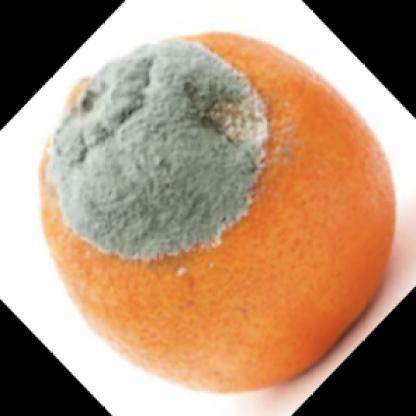rotten: (38, 29, 398, 392)
